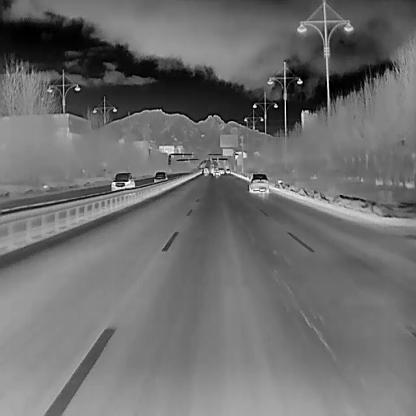car: (110, 172, 134, 190), (248, 173, 269, 193), (152, 171, 168, 182), (213, 167, 220, 176), (202, 167, 209, 175), (225, 167, 231, 174), (218, 166, 223, 174)
